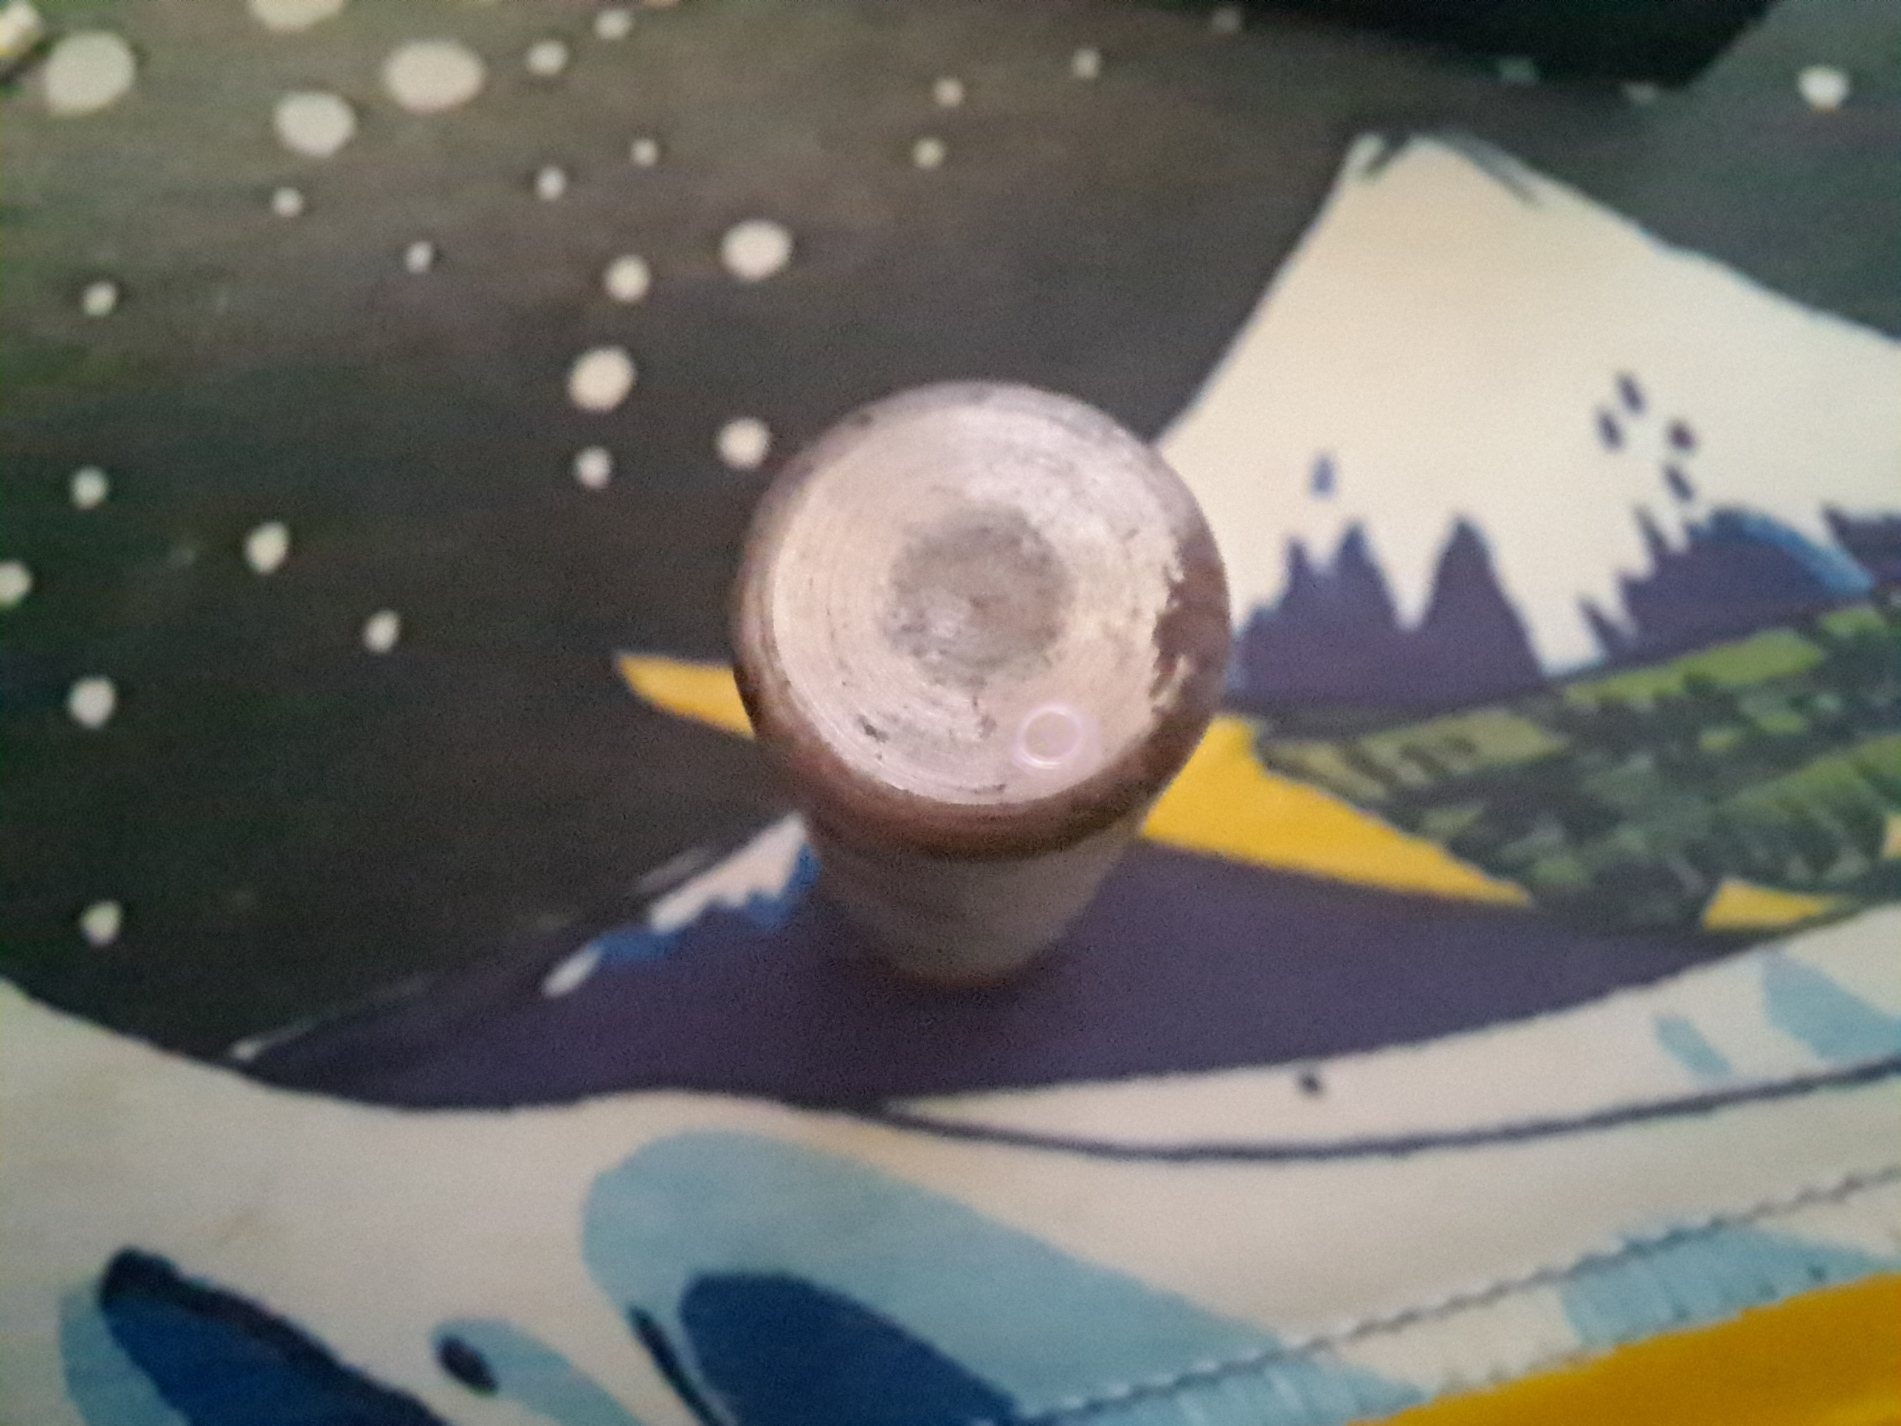плансон: (722, 386, 1234, 1008)
повреждение: (1007, 703, 1097, 770)
